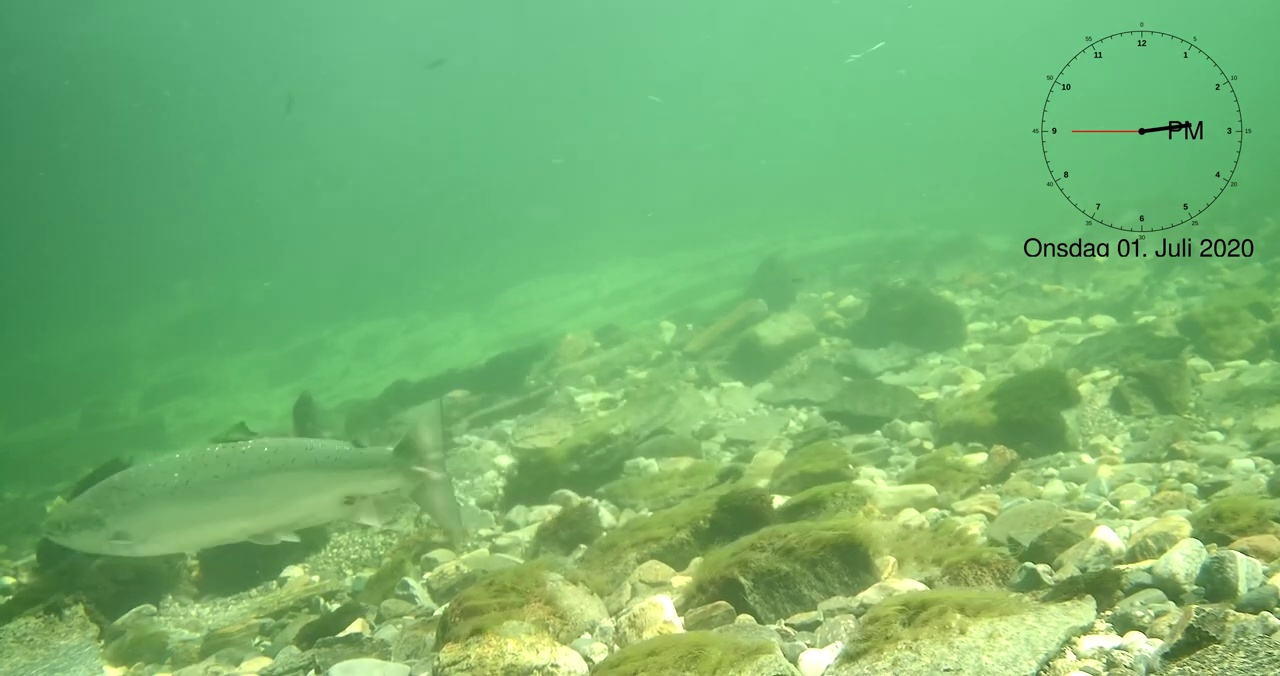salmon: (36, 395, 471, 559)
